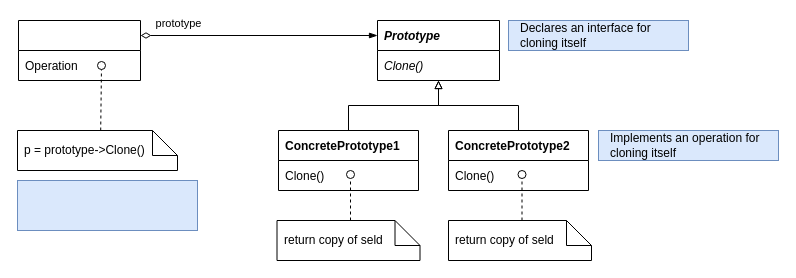
This 796x278 diagram has some shape labels left out. The box of each missing label's shape, as (x1, y1, x2, y2) in pixels:
Client: (18, 20, 140, 80)
creates a new object by asking a prototype to clone itself: (16, 180, 198, 230)
